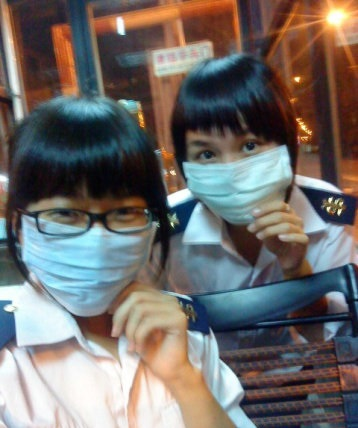face_mask: (29, 165, 150, 312), (184, 105, 278, 227)
